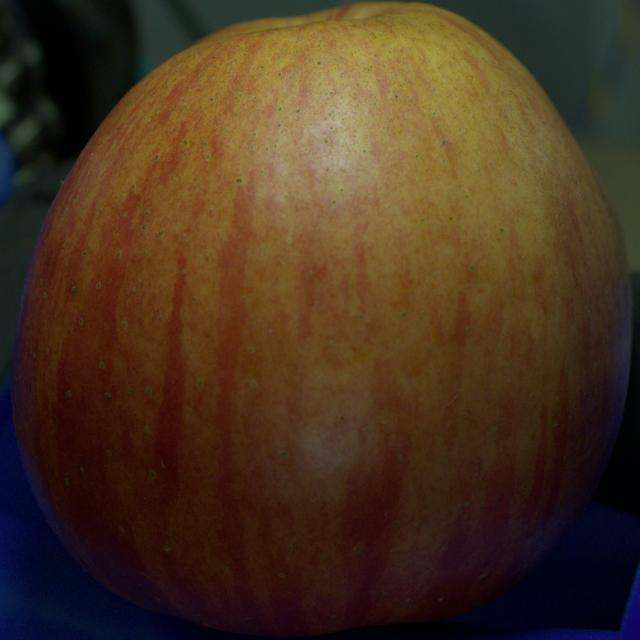apple: (12, 2, 632, 635)
